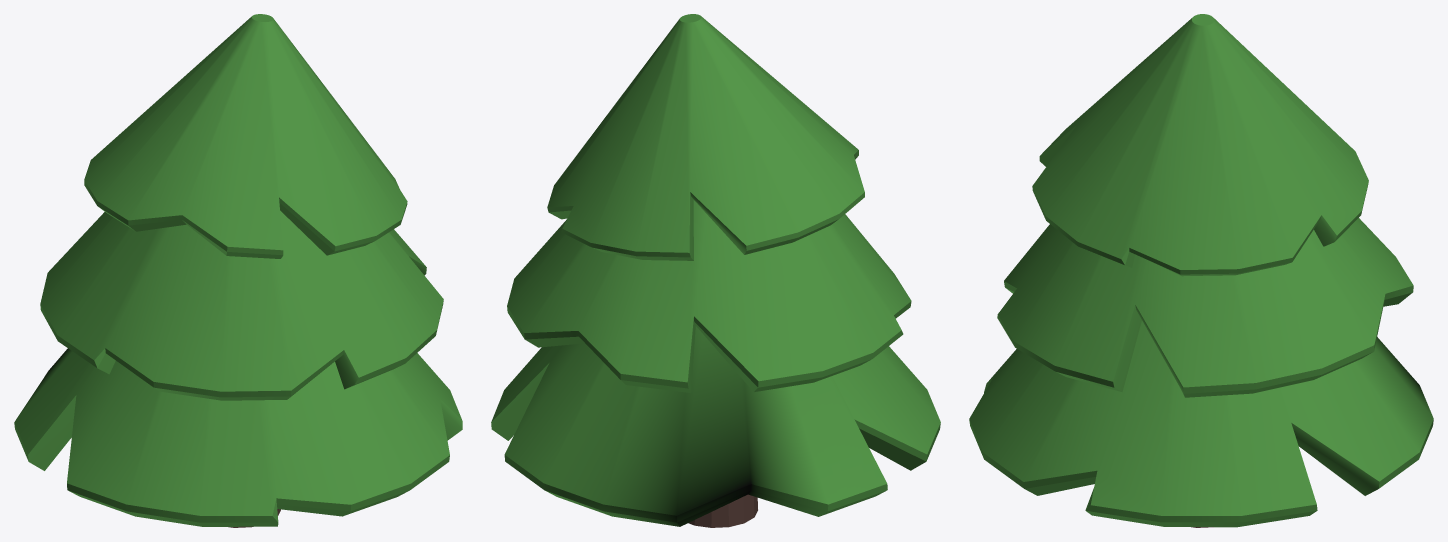
Rendered from Tree 3.fbx.
3 views of the same model, side by side, from view 1: azimuth 30°, elevation 25°; view 2: azimuth 150°, elevation 25°; view 3: azimuth 270°, elevation 25° (orthographic). The views are drawn at different scales.
Visible parts, largest first — view 1: Tree 3; view 2: Tree 3; view 3: Tree 3.
Boxes of the visible parts, x1,y1,x2,y2 form: Tree 3: (14,14,462,527); Tree 3: (491,14,940,527); Tree 3: (969,14,1433,527).
Size of the model in its own units: 3.54 by 4.29 by 3.59.
